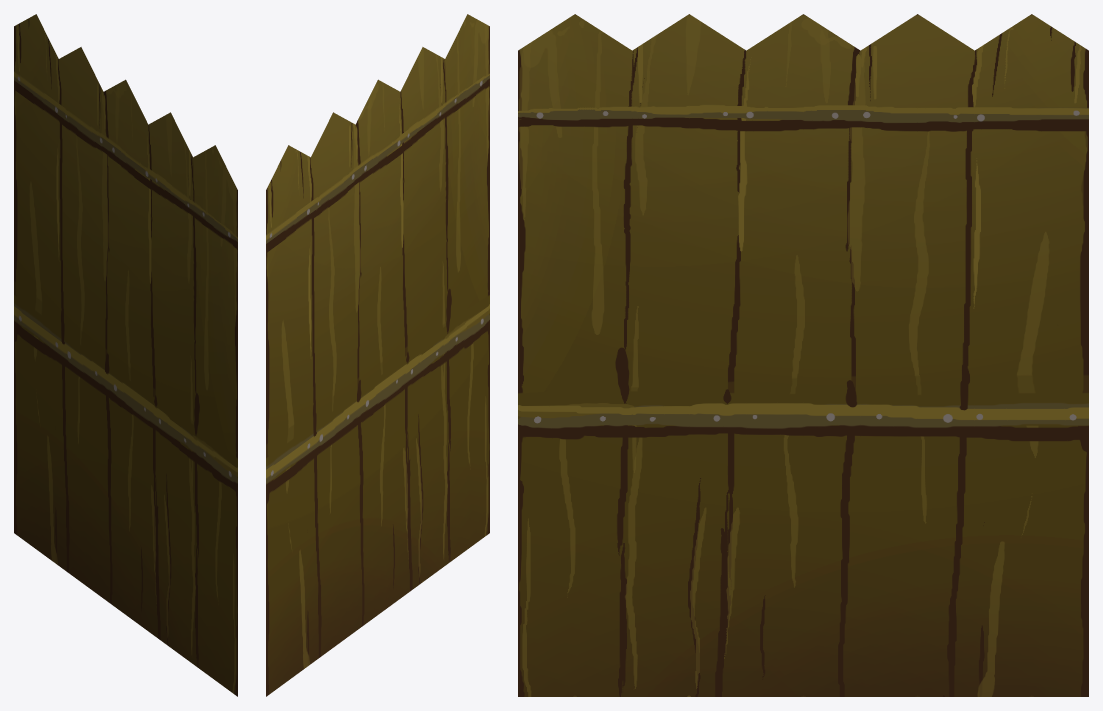
Rendered from cerca.fbx.
3 renders of one model, left to right at view 1: azimuth 30°, elevation 25°; view 2: azimuth 150°, elevation 25°; view 3: azimuth 270°, elevation 25°, orthographic. The views are drawn at different scales.
Parts seen in each view (by area): view 1: Plane; view 2: Plane; view 3: Plane.
Boxes of the visible parts, box(x1,y1,x2,y2) form: Plane: box(14, 14, 237, 696); Plane: box(266, 14, 489, 696); Plane: box(518, 14, 1088, 696).
Size of the model in its own units: 8.74e-06 by 264 by 200.
1 material, 1 textured.
